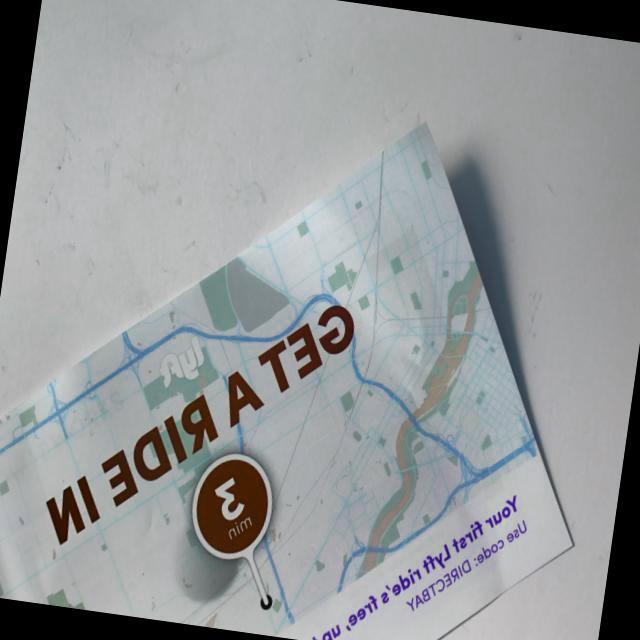paper: (0, 63, 631, 640)
